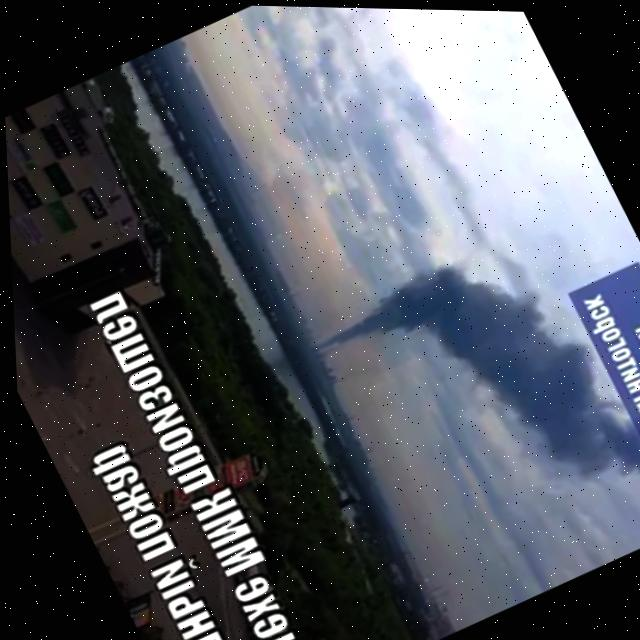Smoke: (291, 219, 640, 581)
